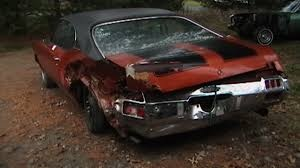Broken-glass: (92, 17, 222, 55), (126, 98, 180, 119)
Dent: (59, 61, 130, 123)
